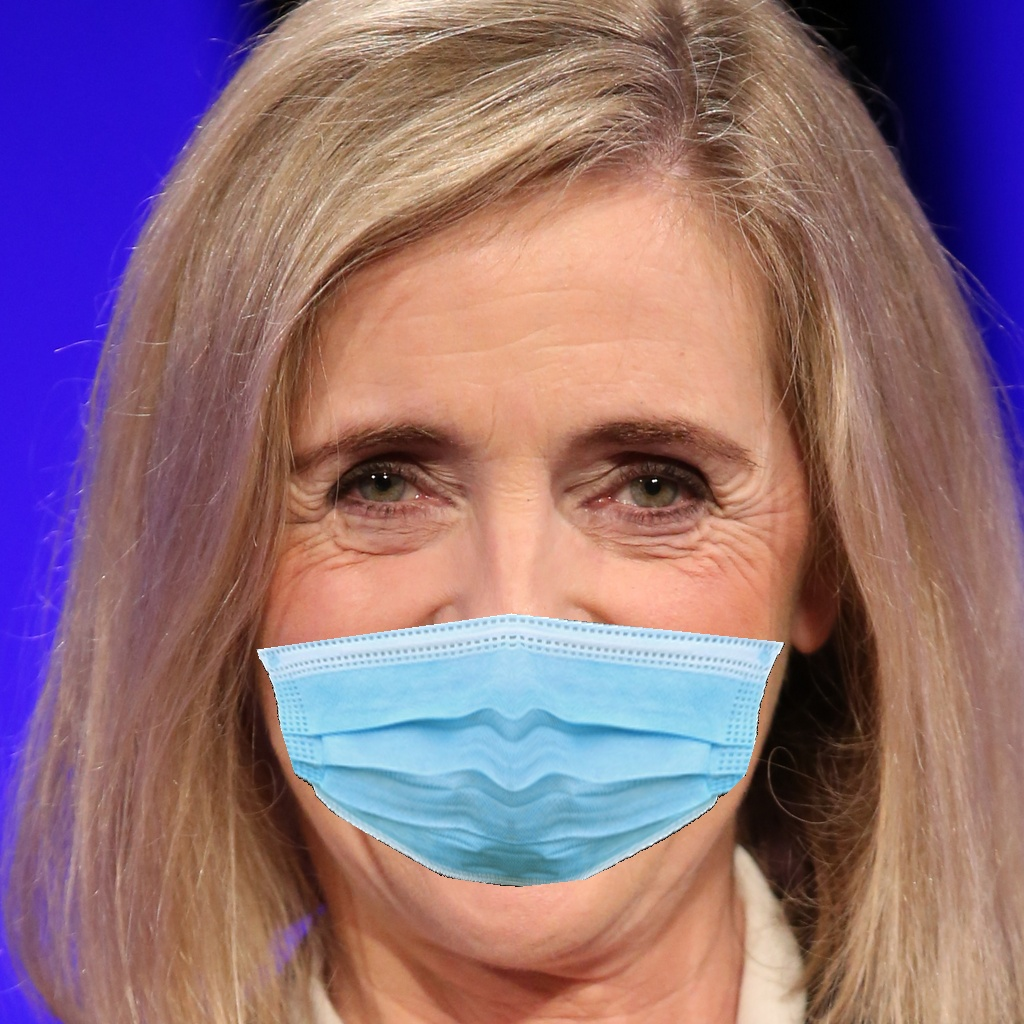mask_weared_incorrect: (242, 412, 821, 908)
